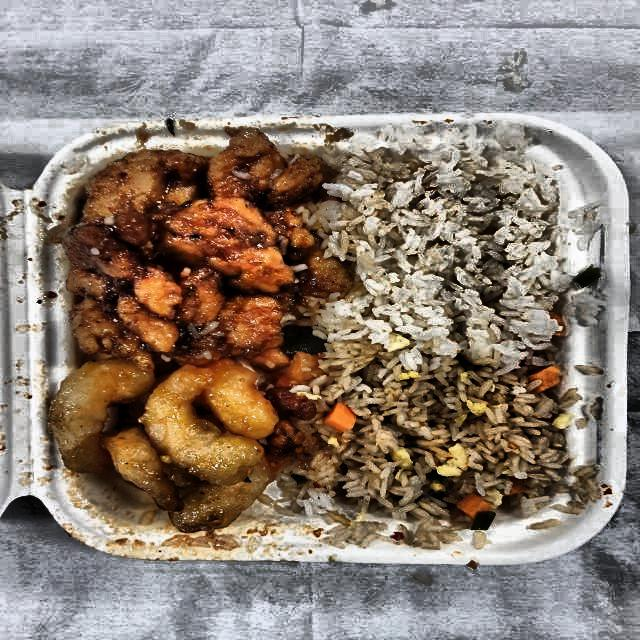Food: (53, 126, 342, 384), (320, 132, 570, 358), (300, 352, 572, 536), (42, 358, 298, 532)
